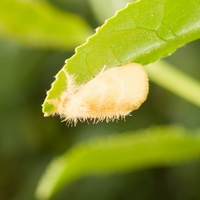insect: (43, 63, 148, 125)
